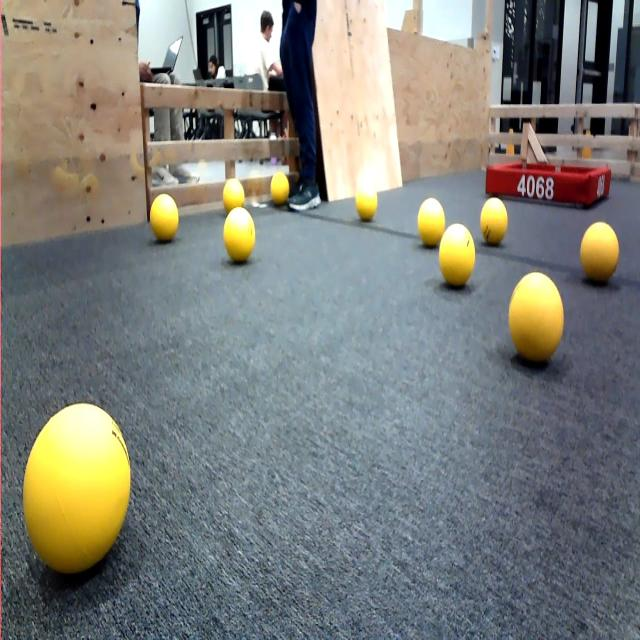Bumper: (480, 150, 616, 212)
fuel: (18, 396, 131, 579), (505, 262, 572, 373), (577, 222, 624, 288), (438, 226, 479, 288), (217, 206, 255, 268), (477, 187, 515, 246), (412, 193, 449, 253), (148, 190, 184, 247), (348, 173, 383, 224), (266, 163, 295, 211), (220, 169, 249, 214)
